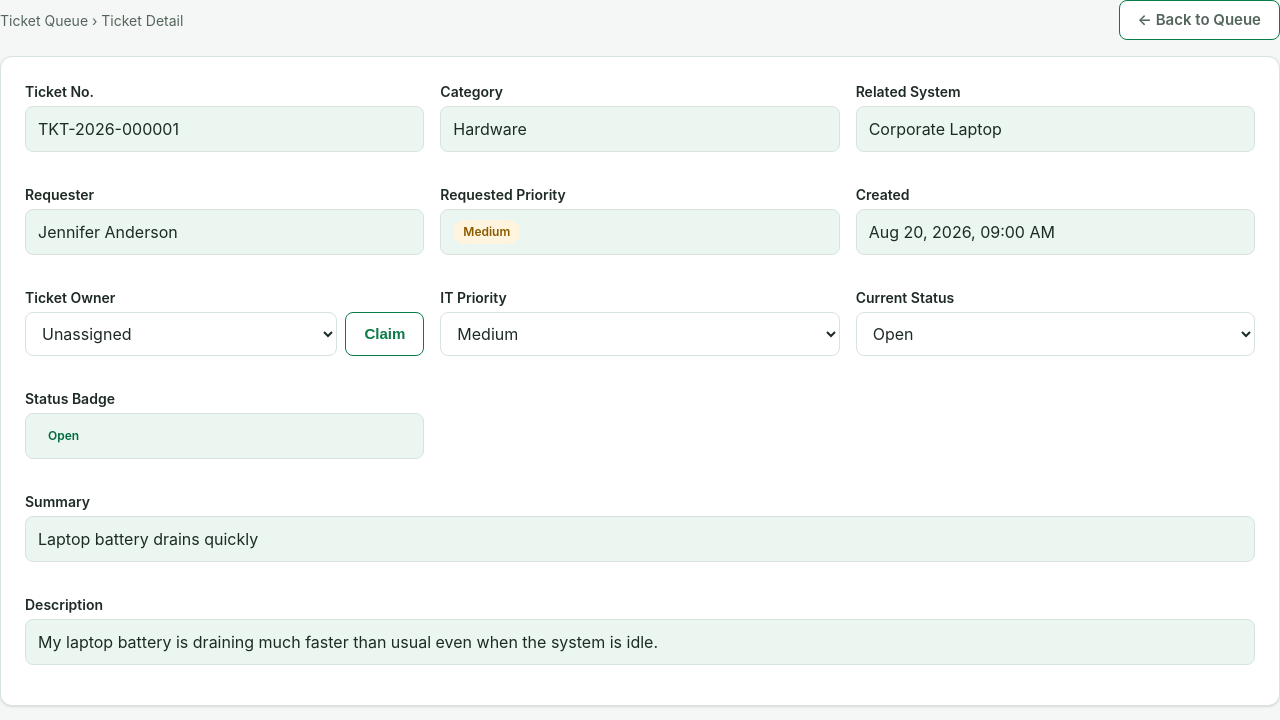
Test: StaffTicketDetail › sends the chosen status and shows a refusal next to the control
Select "Move to Resolved" in the dropdown labelled "Current Status": (1055, 334) [856,312,1255,356]
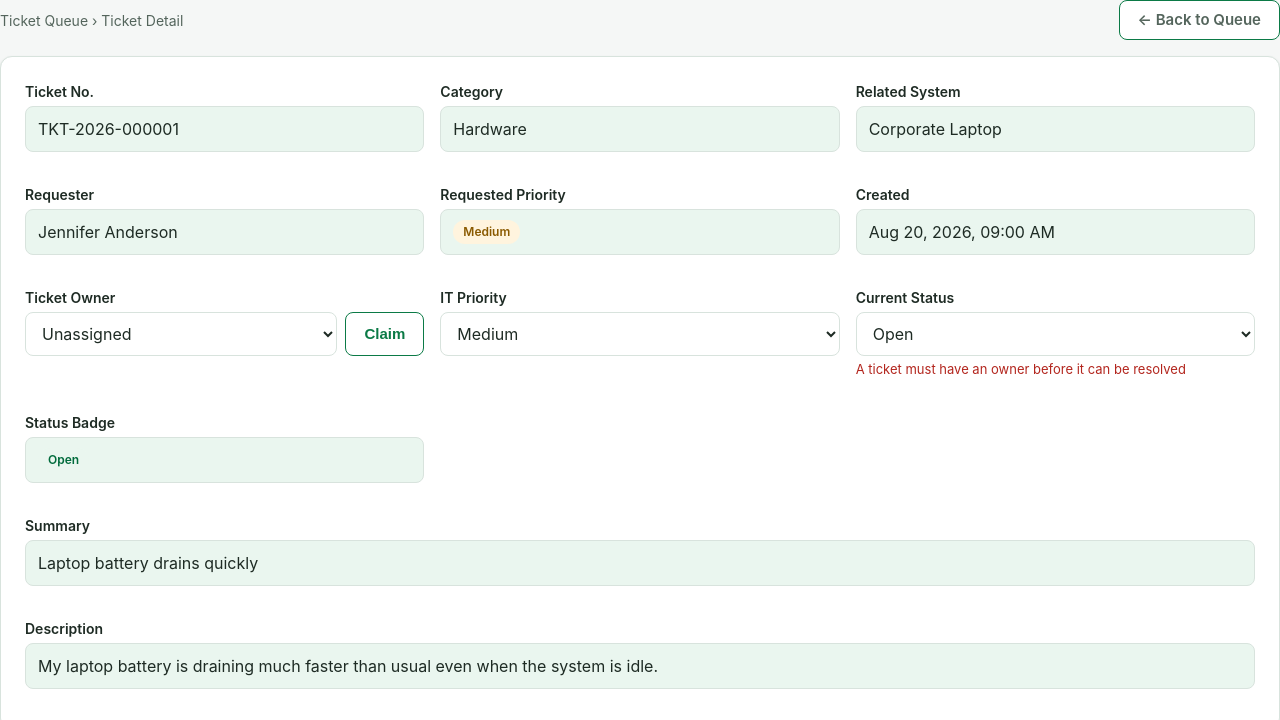
Expected: the text "A ticket must have an owner before it can be resolved" is shown, [856,361,1186,377]
